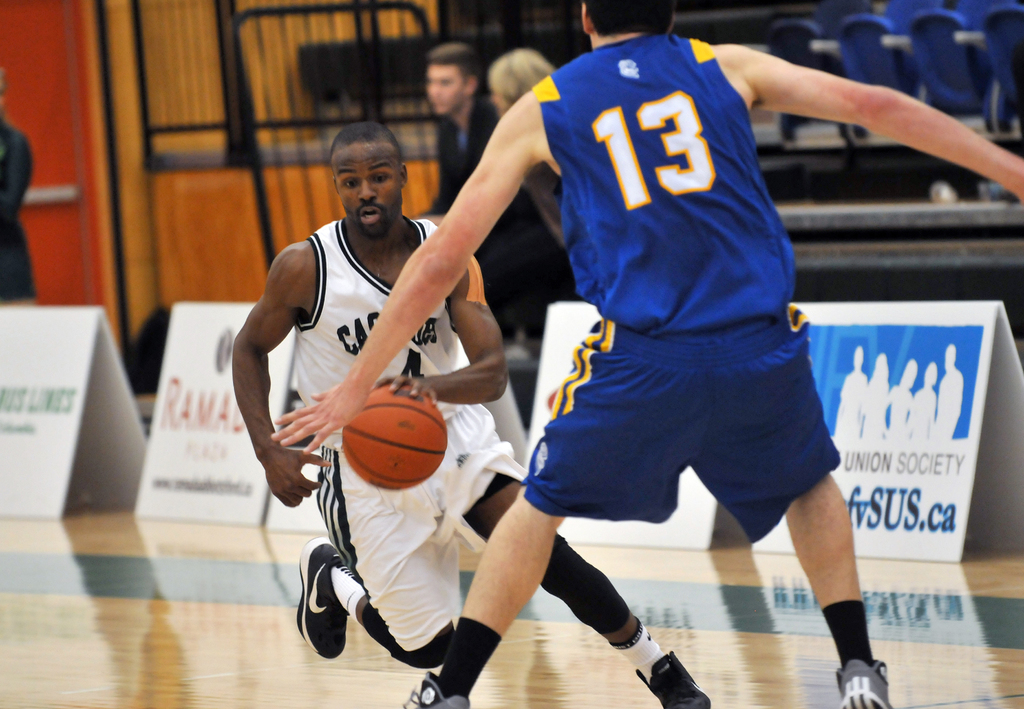Ball: (339, 383, 447, 492)
